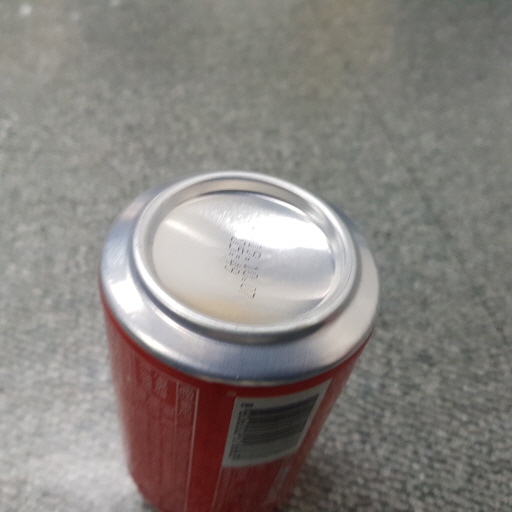Metal_0: (97, 170, 380, 512)
